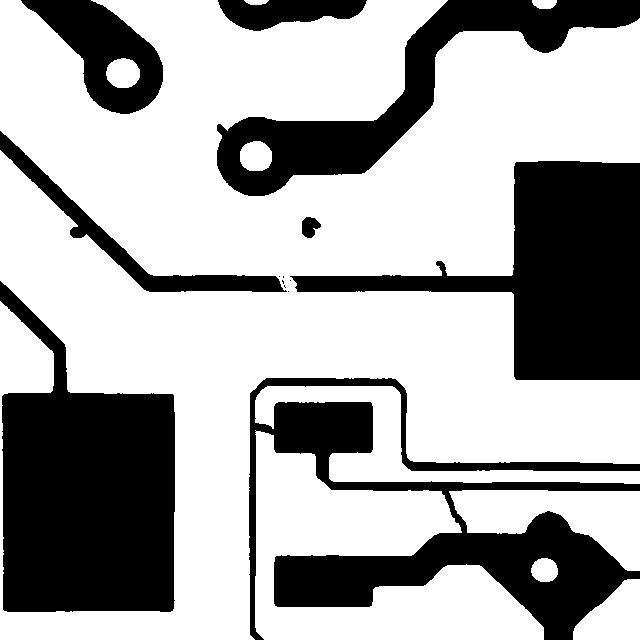copper: (292, 207, 330, 247)
open: (265, 264, 306, 303)
short: (432, 480, 476, 543), (242, 413, 286, 444)
spur: (426, 251, 456, 293), (60, 216, 96, 247), (207, 114, 238, 145)
